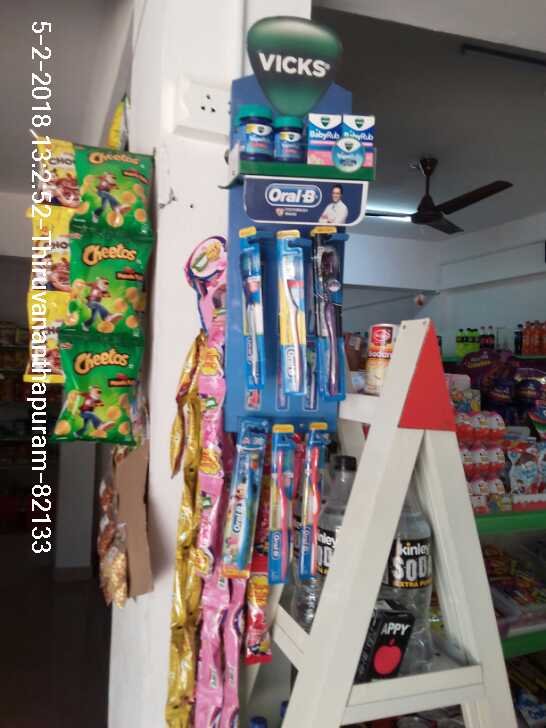pharmacy: (224, 417, 265, 578), (313, 226, 346, 402), (276, 229, 311, 391), (238, 225, 270, 391), (266, 421, 295, 585), (304, 423, 328, 577), (236, 99, 276, 164), (310, 110, 341, 165), (342, 115, 377, 163), (275, 117, 306, 167)
